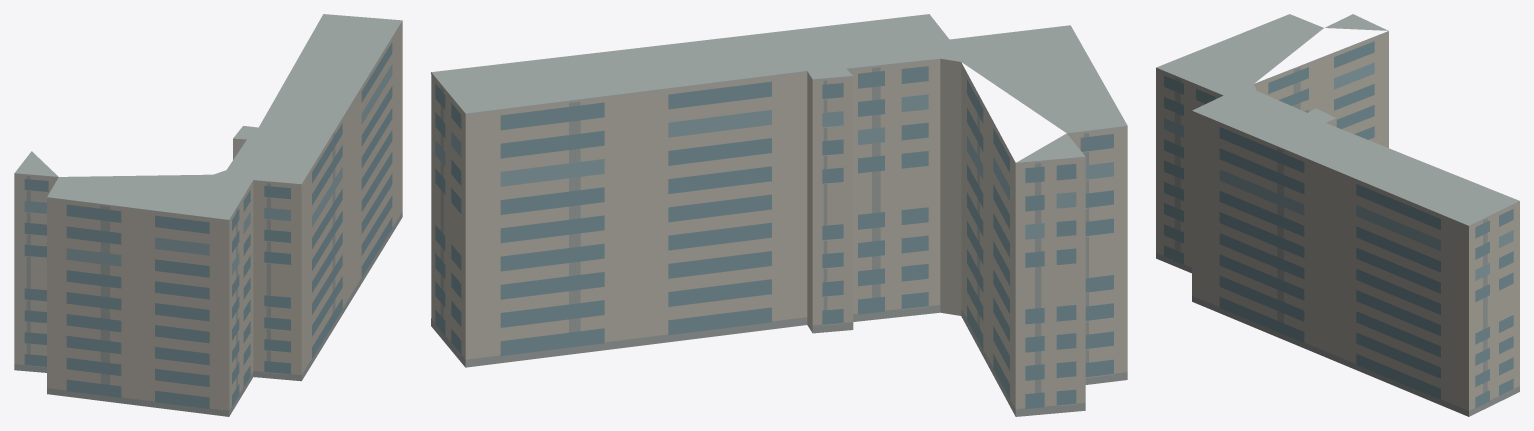
The model's file is residential-fda61ef1-33d5-4c08-b6b8-450724b796bc.glb.
3 views of the same model, side by side, from view 1: azimuth 30°, elevation 25°; view 2: azimuth 150°, elevation 25°; view 3: azimuth 270°, elevation 25° (orthographic). The views are drawn at different scales.
Visible parts, largest first — view 1: residential-fda61ef1-33d5-4c08-b6b8-450724b796bc.tmp; view 2: residential-fda61ef1-33d5-4c08-b6b8-450724b796bc.tmp; view 3: residential-fda61ef1-33d5-4c08-b6b8-450724b796bc.tmp.
Part boxes in pixels (left/top/right/bottom): residential-fda61ef1-33d5-4c08-b6b8-450724b796bc.tmp: left=14, top=14, right=402, bottom=416; residential-fda61ef1-33d5-4c08-b6b8-450724b796bc.tmp: left=431, top=14, right=1127, bottom=416; residential-fda61ef1-33d5-4c08-b6b8-450724b796bc.tmp: left=1156, top=14, right=1519, bottom=416.
Bounding box in the file's own units: 65.3 × 27.45 × 47.36.
